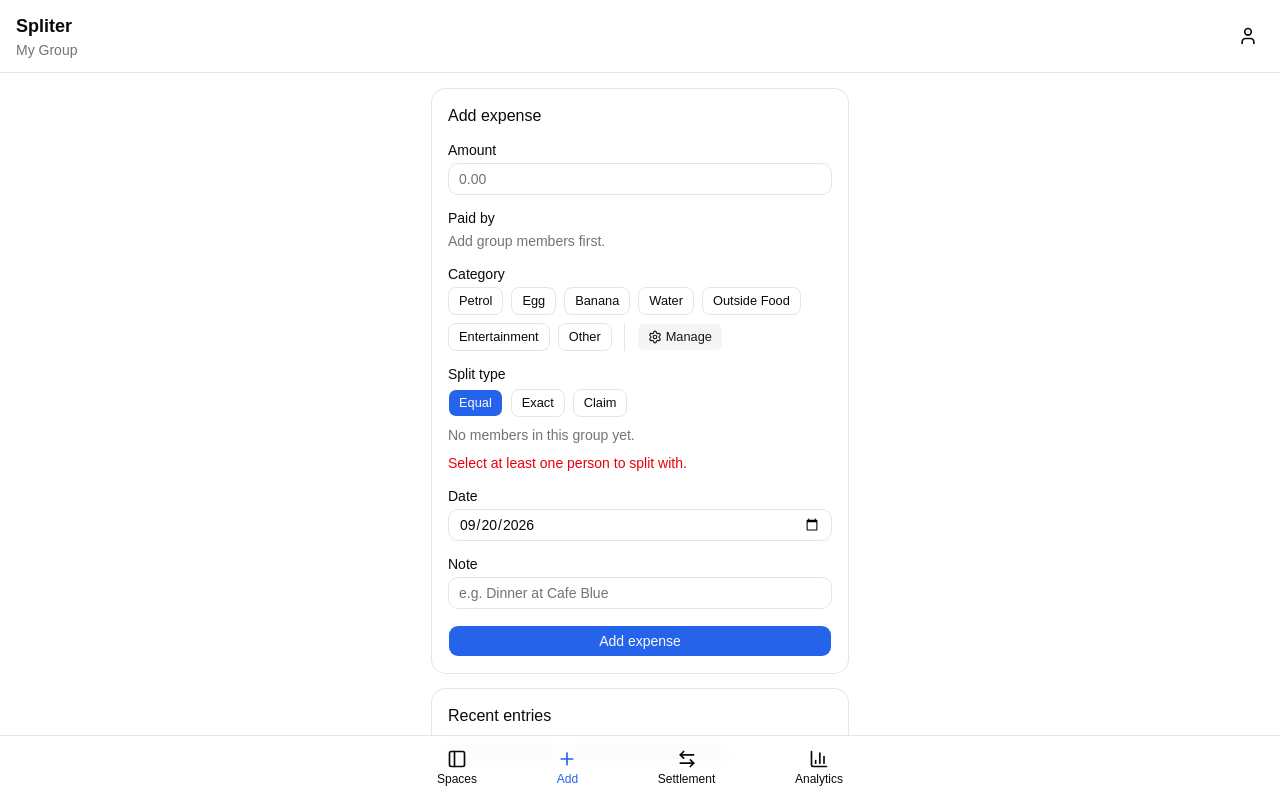
it: AppShell › opens the members modal automatically right after creating a new space
The width and height of the screenshot is (1280, 800).
Expected: the text "My Group" is shown, 16,40 -> 78,60
Click the button "Spaces" at (457, 768), box 424,740 -> 490,796
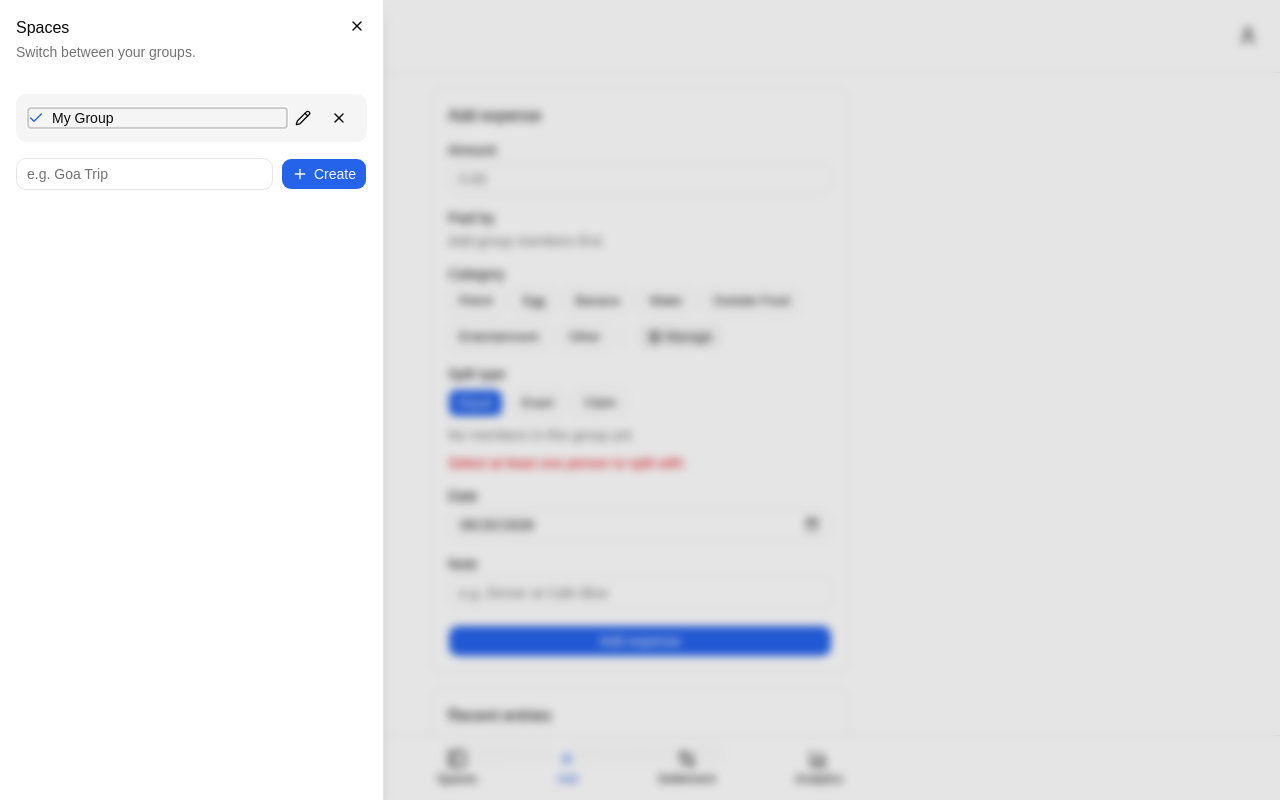
Type "Weekend Trip" into the field with placeholder "e.g. Goa Trip" at (144, 174), box 16,158 -> 273,190
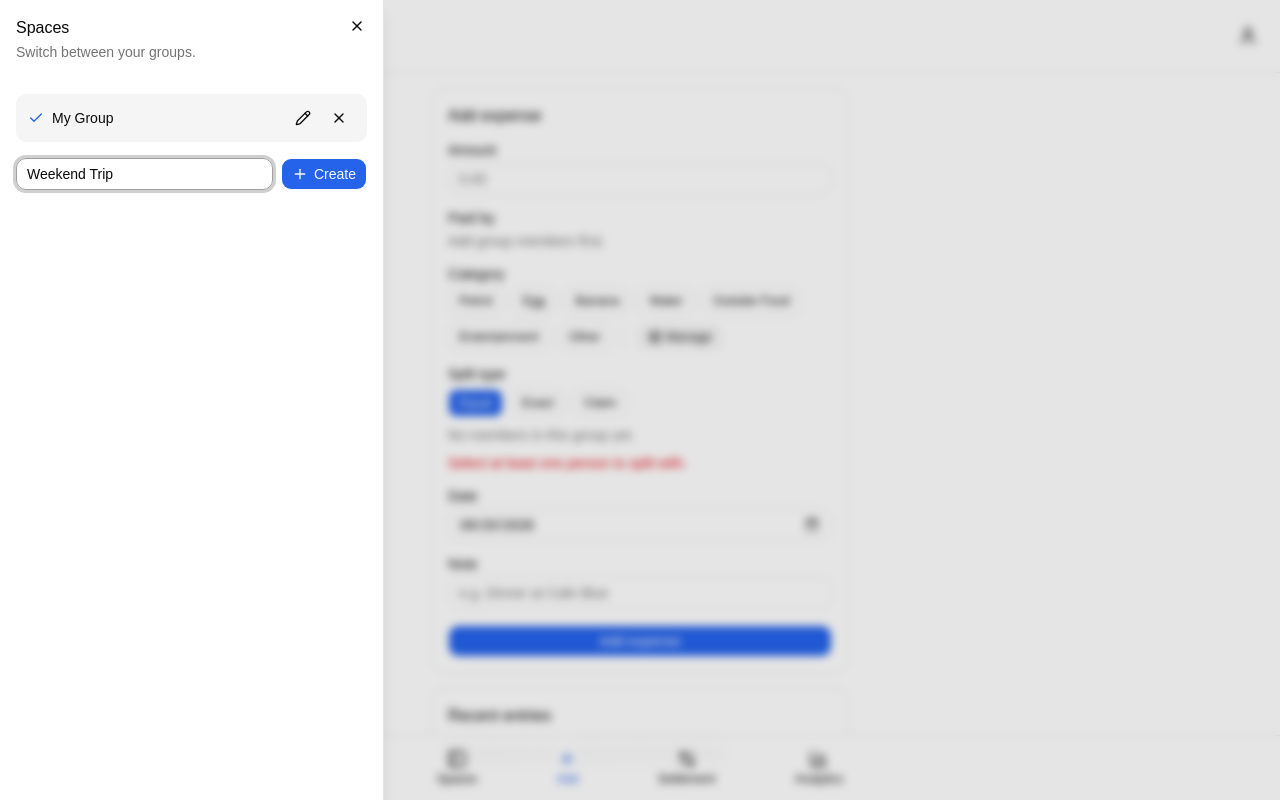
Click the button "Create" at (324, 174), box 281,158 -> 367,190
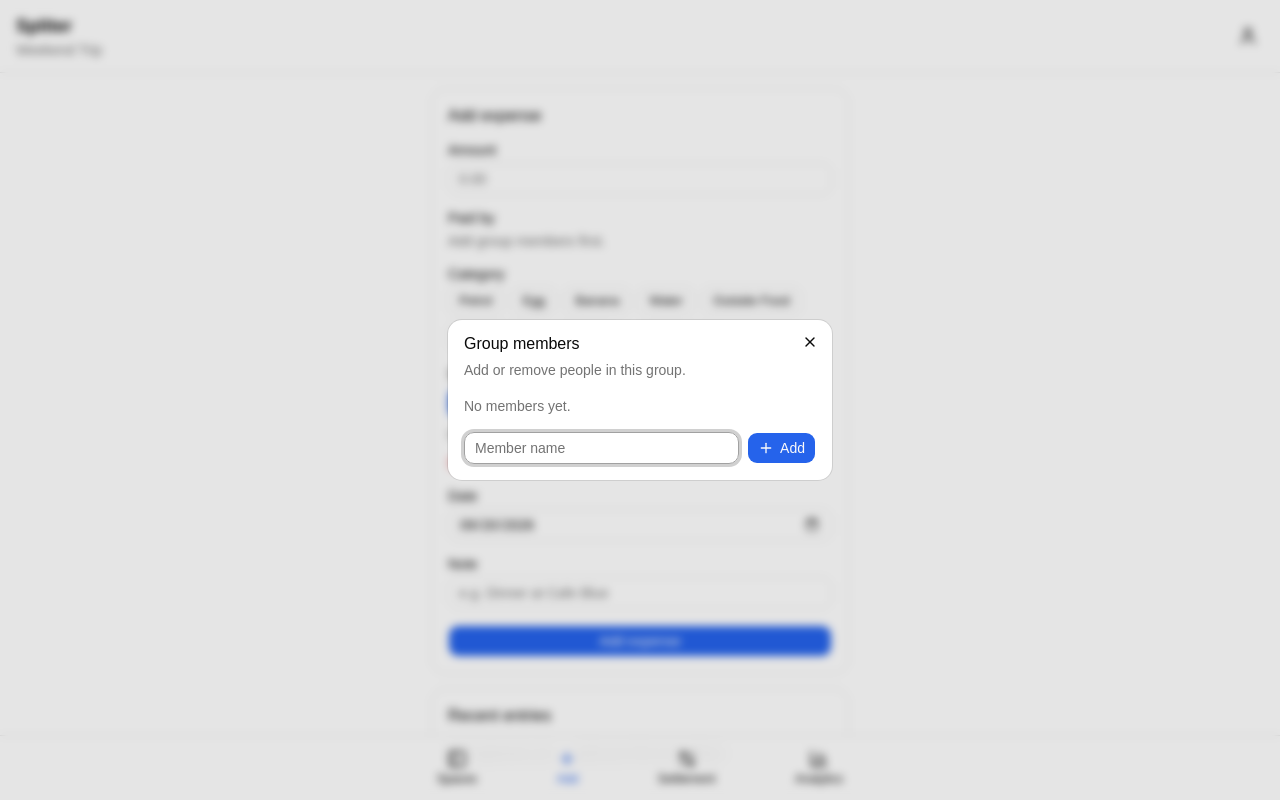
Expected: the heading "Group members" is shown, 464,335 -> 580,352
Expected: the text "Weekend Trip" is shown, 16,40 -> 102,60
